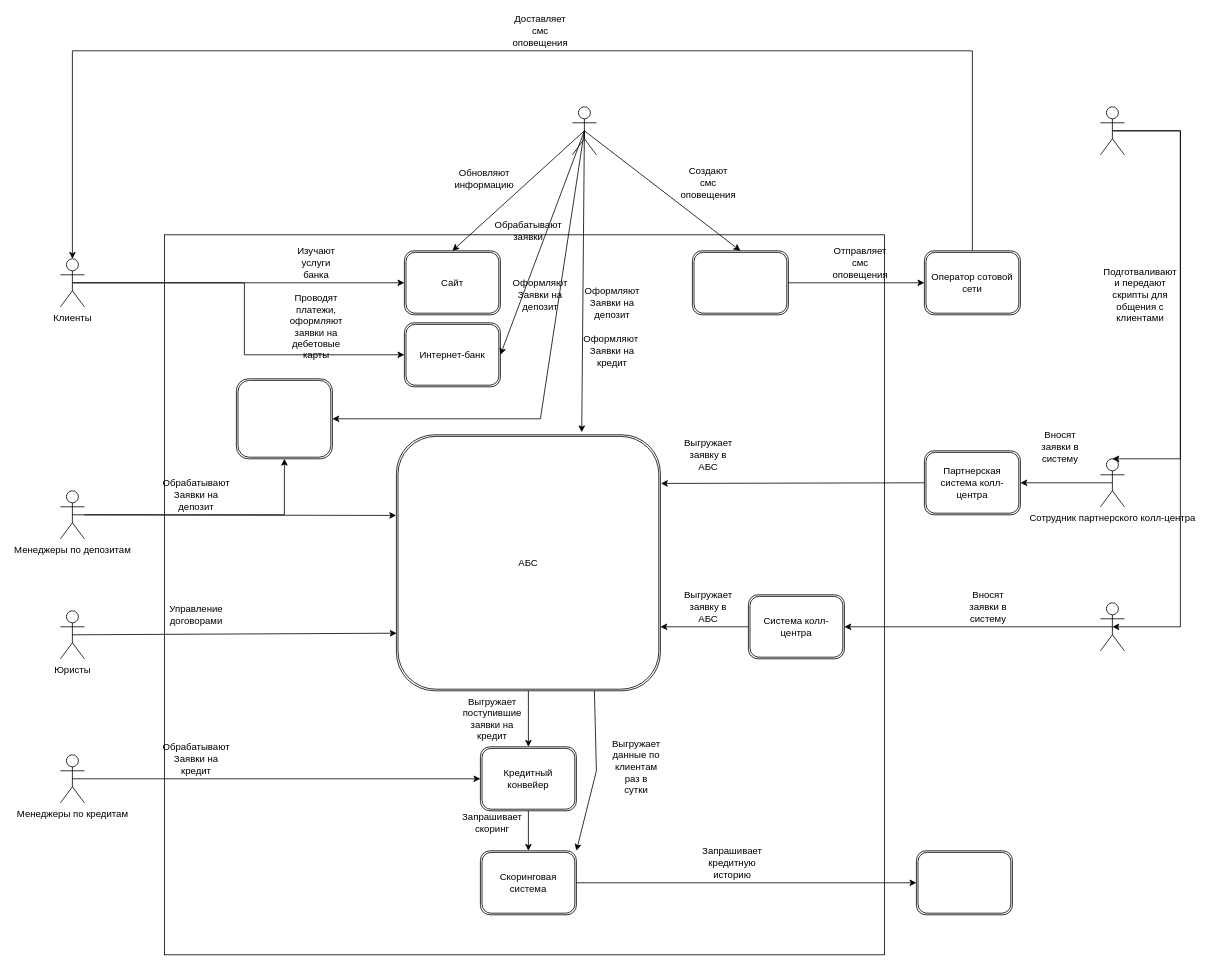
Image size: 1209x969. Some labels were removed from this diagram. The centre of each missing label's shape, as x and y in pixels:
"Бюро кредитных историй" belongs at point (964, 882).
"Почтовый сервер (Excel + почта)" belongs at point (284, 418).
"Руководители продаж" belongs at point (1112, 130).
"СМС-шлюз" belongs at point (740, 282).
"Сотрудник колл-центра" belongs at point (1112, 626).
"Сотрудники фронт-оффиса" belongs at point (584, 130).
